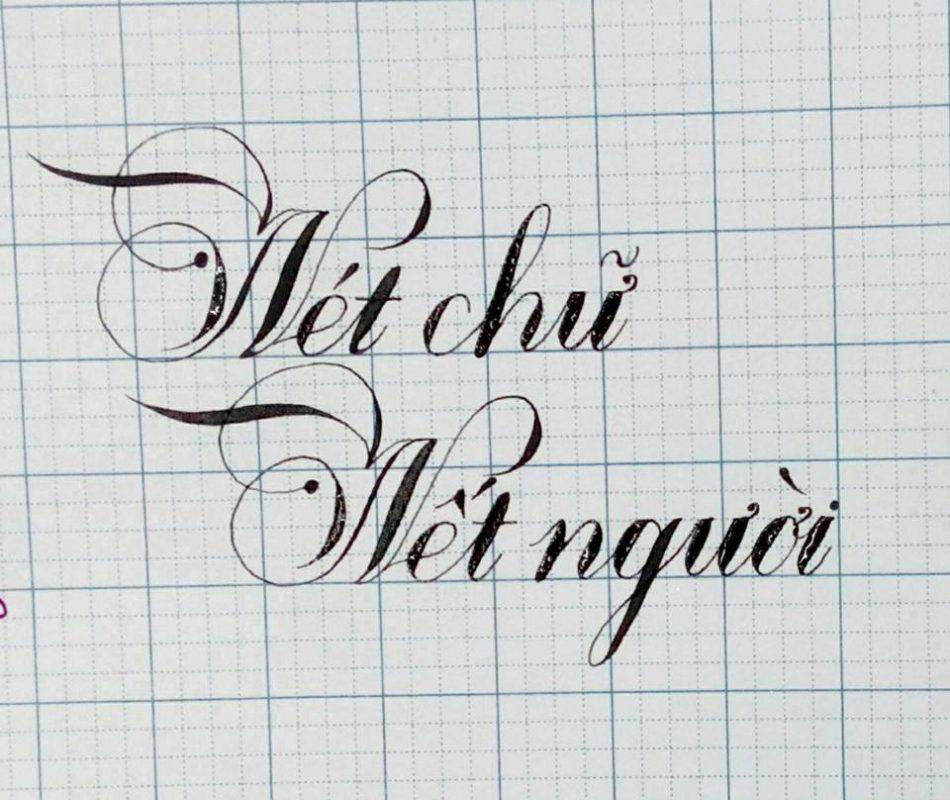text: (121, 359, 845, 678), (21, 116, 643, 367)
